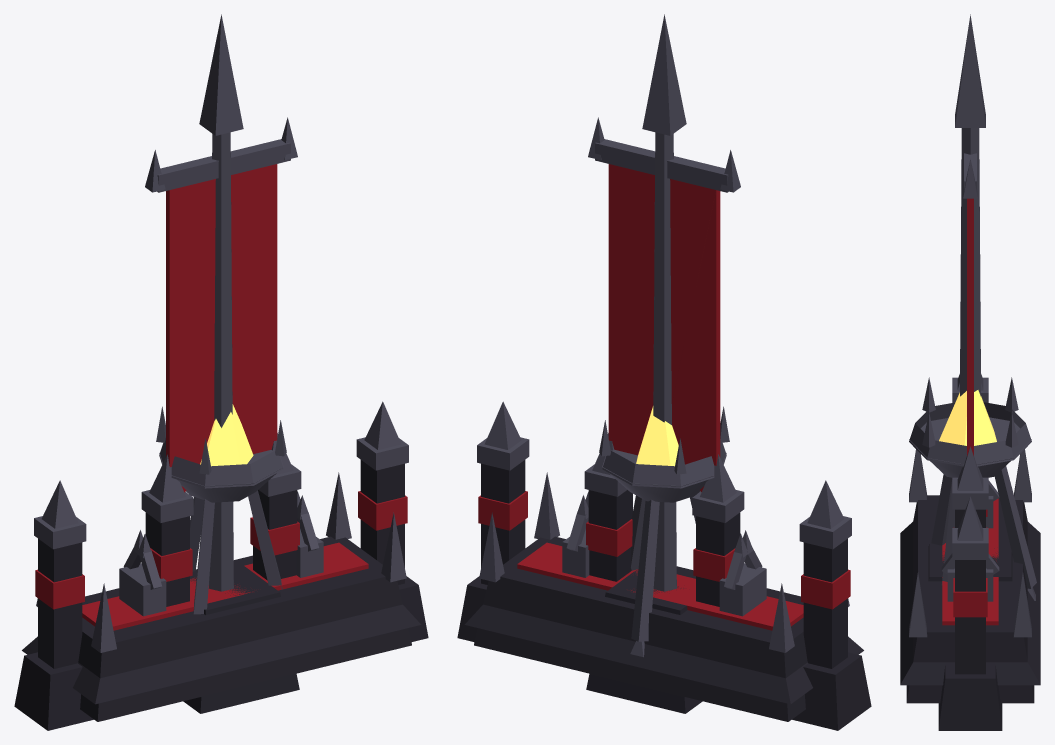
The model's file is Nightfall_Props.fbx.
3 views of the same model, side by side, from view 1: azimuth 30°, elevation 25°; view 2: azimuth 150°, elevation 25°; view 3: azimuth 270°, elevation 25° (orthographic). The views are drawn at different scales.
Visible parts, largest first — view 1: Nightfall_Props_TalonPlinth__Stone, Nightfall_Props_BannerPole__Crimson, Nightfall_Props_StakeRow__Stone, Nightfall_Props_BannerPole__Iron, Nightfall_Props_BrazierTall__Iron, Nightfall_Props_StakeRow__Iron, Nightfall_Props_TalonPlinth__Iron, Nightfall_Props_StakeRow__Crimson, Nightfall_Props_TalonPlinth__Crimson, Nightfall_Props_BannerPole__Stone, Nightfall_Props_BrazierTall__Ember; view 2: Nightfall_Props_TalonPlinth__Stone, Nightfall_Props_BannerPole__Crimson, Nightfall_Props_StakeRow__Stone, Nightfall_Props_BannerPole__Iron, Nightfall_Props_BrazierTall__Iron, Nightfall_Props_StakeRow__Iron, Nightfall_Props_TalonPlinth__Iron, Nightfall_Props_StakeRow__Crimson, Nightfall_Props_TalonPlinth__Crimson, Nightfall_Props_BannerPole__Stone, Nightfall_Props_BrazierTall__Ember; view 3: Nightfall_Props_TalonPlinth__Stone, Nightfall_Props_BrazierTall__Iron, Nightfall_Props_StakeRow__Stone, Nightfall_Props_BannerPole__Iron, Nightfall_Props_TalonPlinth__Iron, Nightfall_Props_StakeRow__Iron, Nightfall_Props_BannerPole__Crimson, Nightfall_Props_BrazierTall__Ember, Nightfall_Props_TalonPlinth__Crimson, Nightfall_Props_BannerPole__Stone, Nightfall_Props_StakeRow__Crimson.
Boxes of the visible parts, x1,y1,x2,y2 form: Nightfall_Props_TalonPlinth__Stone: [22, 536, 421, 721]; Nightfall_Props_BannerPole__Crimson: [166, 164, 277, 492]; Nightfall_Props_StakeRow__Stone: [14, 460, 428, 730]; Nightfall_Props_BannerPole__Iron: [145, 14, 297, 591]; Nightfall_Props_BrazierTall__Iron: [156, 406, 286, 614]; Nightfall_Props_StakeRow__Iron: [34, 401, 408, 549]; Nightfall_Props_TalonPlinth__Iron: [36, 472, 406, 652]; Nightfall_Props_StakeRow__Crimson: [35, 491, 407, 609]; Nightfall_Props_TalonPlinth__Crimson: [82, 542, 368, 630]; Nightfall_Props_BannerPole__Stone: [183, 561, 299, 713]; Nightfall_Props_BrazierTall__Ember: [200, 404, 253, 466]; Nightfall_Props_TalonPlinth__Stone: [464, 536, 863, 721]; Nightfall_Props_BannerPole__Crimson: [608, 164, 720, 491]; Nightfall_Props_StakeRow__Stone: [457, 460, 871, 730]; Nightfall_Props_BannerPole__Iron: [588, 14, 740, 591]; Nightfall_Props_BrazierTall__Iron: [599, 406, 729, 657]; Nightfall_Props_StakeRow__Iron: [477, 401, 851, 549]; Nightfall_Props_TalonPlinth__Iron: [479, 472, 849, 652]; Nightfall_Props_StakeRow__Crimson: [478, 491, 850, 609]; Nightfall_Props_TalonPlinth__Crimson: [517, 542, 803, 630]; Nightfall_Props_BannerPole__Stone: [586, 568, 702, 713]; Nightfall_Props_BrazierTall__Ember: [636, 406, 678, 466]; Nightfall_Props_TalonPlinth__Stone: [900, 495, 1040, 703]; Nightfall_Props_BrazierTall__Iron: [909, 377, 1036, 600]; Nightfall_Props_StakeRow__Stone: [938, 509, 1002, 730]; Nightfall_Props_BannerPole__Iron: [955, 14, 985, 396]; Nightfall_Props_TalonPlinth__Iron: [909, 449, 1031, 637]; Nightfall_Props_StakeRow__Iron: [952, 374, 988, 559]; Nightfall_Props_BannerPole__Crimson: [967, 198, 973, 455]; Nightfall_Props_BrazierTall__Ember: [939, 390, 996, 445]; Nightfall_Props_TalonPlinth__Crimson: [942, 498, 998, 625]; Nightfall_Props_BannerPole__Stone: [928, 542, 1012, 581]; Nightfall_Props_StakeRow__Crimson: [953, 509, 987, 617].
Size of the model in its own units: 9.2 by 15.4 by 3.08.
